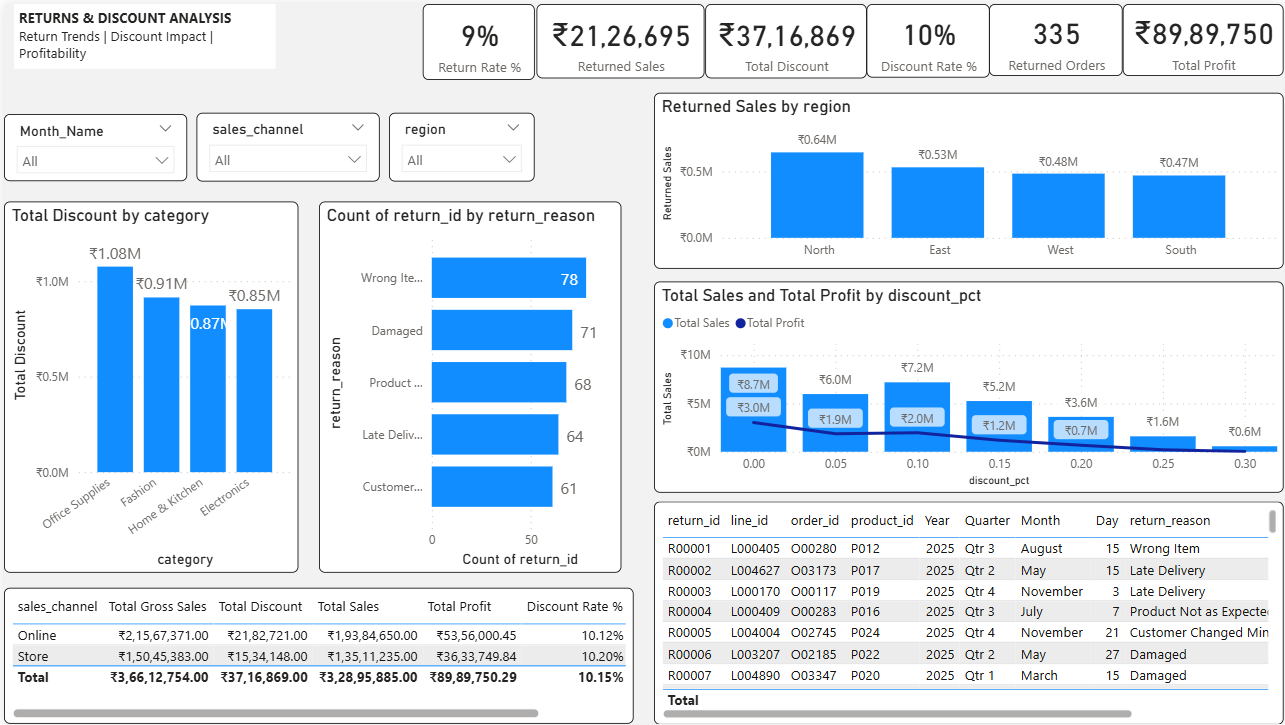

This screenshot's page, from the dashboard's own definition file:
{"tool":"powerbi","page":{"name":"Returns & Discount Analysis","canvas":[1280,720],"ordinal":4},"visuals":[{"type":"textbox","box":[10,0,261.2,65],"z":0},{"type":"card","fields":{"Values":["Sales_Transactions.Discount Rate %"]},"box":[862.3,0,123,73.6],"z":1},{"type":"card","fields":{"Values":["Sales_Transactions.Total Discount"]},"box":[700.7,0,161.6,74.8],"z":2},{"type":"card","fields":{"Values":["Sales_Transactions.Total Profit"]},"box":[1119.2,0,160.4,72.4],"z":3},{"type":"card","fields":{"Values":["Returns.Returned Orders"]},"box":[985.3,0,133.9,72.4],"z":4},{"type":"card","fields":{"Values":["Returns.Returned Sales"]},"box":[533.1,0,167.6,74.8],"z":5},{"type":"card","fields":{"Values":["Returns.Return Rate %"]},"box":[418.5,0,112.2,76],"z":6},{"type":"slicer","fields":{"Values":["Calendar.Month_Name"]},"box":[0,109.7,183.3,67.5],"z":8},{"type":"slicer","fields":{"Values":["Sales_Transactions.sales_channel"]},"box":[193,108.5,183.3,68.7],"z":9},{"type":"clusteredBarChart","fields":{"Category":["Returns.return_reason"],"Y":["CountNonNull(Returns.return_id)"]},"box":[314.8,197.8,302.7,371.5],"z":10},{"type":"lineClusteredColumnComboChart","fields":{"Y":["Sales_Transactions.Total Sales"],"Category":["Sales_Transactions.discount_pct"],"Y2":["Sales_Transactions.Total Profit"]},"box":[650.1,277.4,629.5,211.1],"z":11},{"type":"clusteredColumnChart","fields":{"Y":["Returns.Returned Sales"],"Category":["Employees.region"]},"box":[650.1,89.2,629.5,176.1],"z":12},{"type":"clusteredColumnChart","fields":{"Category":["Products.category"],"Y":["Sales_Transactions.Total Discount"]},"box":[0,197.8,294.3,371.5],"z":13},{"type":"tableEx","fields":{"Values":["Returns.return_id","Returns.line_id","Returns.order_id","Returns.product_id","Returns.return_date.Variation.Date Hierarchy.Year","Returns.return_date.Variation.Date Hierarchy.Quarter","Returns.return_date.Variation.Date Hierarchy.Month","Returns.return_date.Variation.Date Hierarchy.Day","Returns.return_reason","Sum(Returns.returned_quantity)"]},"box":[650.1,496.9,629.5,223.1],"z":14},{"type":"tableEx","fields":{"Values":["Sales_Transactions.sales_channel","Sales_Transactions.Total Gross Sales","Sales_Transactions.Total Discount","Sales_Transactions.Total Sales","Sales_Transactions.Total Profit","Sales_Transactions.Discount Rate %","Sales_Transactions.Profit Margin %"]},"box":[0,583.7,629.5,136.3],"z":15},{"type":"slicer","fields":{"Values":["Sales_Transactions.region"]},"box":[384.7,108.5,145.9,68.7],"z":16}]}

Visuals, with their boxes in screenshot pixels (x1, y1, x2, y2), scaled from the page's 1280x720 canvas onto the 1285x725 screenshot:
textbox: l=10, t=0, r=272, b=65
card - Sales_Transactions.Discount Rate %: l=866, t=0, r=989, b=74
card - Sales_Transactions.Total Discount: l=703, t=0, r=866, b=75
card - Sales_Transactions.Total Profit: l=1124, t=0, r=1284, b=73
card - Returns.Returned Orders: l=989, t=0, r=1124, b=73
card - Returns.Returned Sales: l=535, t=0, r=703, b=75
card - Returns.Return Rate %: l=420, t=0, r=533, b=77
slicer - Calendar.Month_Name: l=0, t=110, r=184, b=178
slicer - Sales_Transactions.sales_channel: l=194, t=109, r=378, b=178
clusteredBarChart - Returns.return_reason x CountNonNull(Returns.return_id): l=316, t=199, r=620, b=573
lineClusteredColumnComboChart - Sales_Transactions.Total Sales x Sales_Transactions.discount_pct: l=653, t=279, r=1284, b=492
clusteredColumnChart - Returns.Returned Sales x Employees.region: l=653, t=90, r=1284, b=267
clusteredColumnChart - Products.category x Sales_Transactions.Total Discount: l=0, t=199, r=295, b=573
tableEx - Returns.return_id x Returns.line_id: l=653, t=500, r=1284, b=724
tableEx - Sales_Transactions.sales_channel x Sales_Transactions.Total Gross Sales: l=0, t=588, r=632, b=724
slicer - Sales_Transactions.region: l=386, t=109, r=533, b=178
